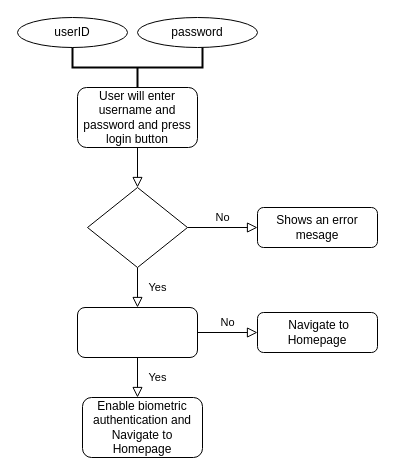
Image size: 395x475. Some labels were removed from this diagram. The box of each missing label's shape, as (x1, y1, x2, y2) in pixels:
Shows a pop for enabling biometric authentication: (76, 306, 198, 358)
Validation successful ?: (86, 186, 188, 268)
